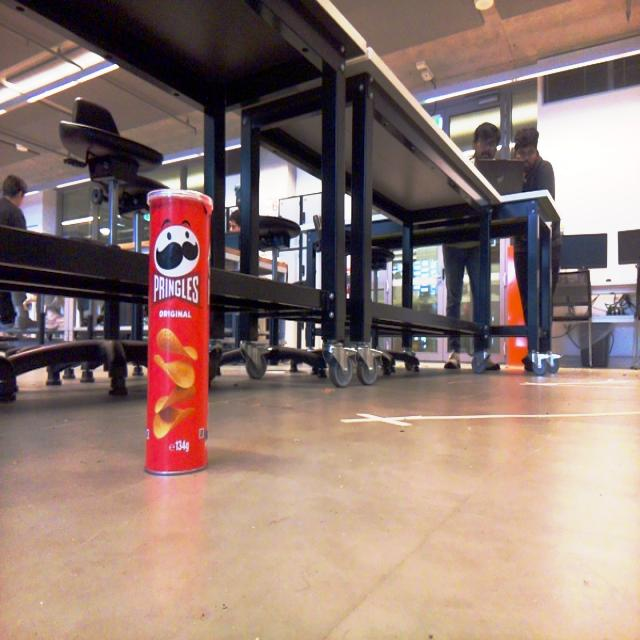redpringles: (130, 174, 234, 485)
